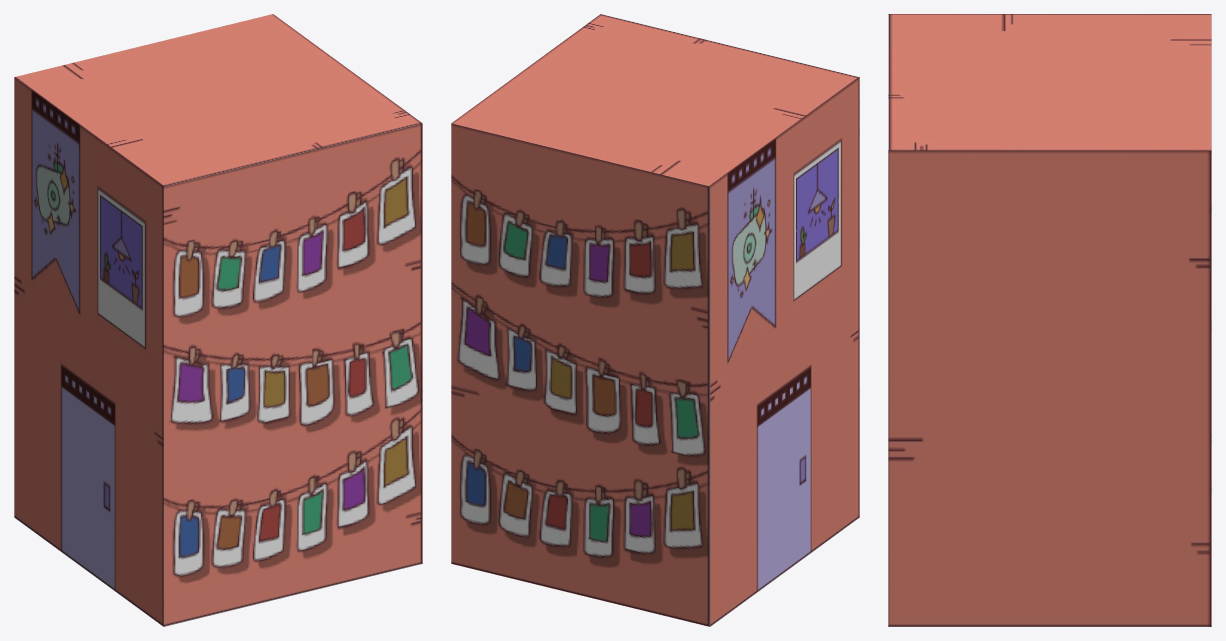
File: building_cameraStore.fbx
3 renders of one model, left to right at view 1: azimuth 30°, elevation 25°; view 2: azimuth 150°, elevation 25°; view 3: azimuth 270°, elevation 25°, orthographic. The views are drawn at different scales.
Visible parts, largest first — view 1: Box002; view 2: Box002; view 3: Box002.
Part boxes in pixels (x1,y1,x2,y2): Box002: [14, 14, 422, 626]; Box002: [451, 14, 859, 626]; Box002: [888, 14, 1211, 626].
Size of the model in its own units: 80 by 130 by 80.
Materials: 1 (1 with a texture image).
